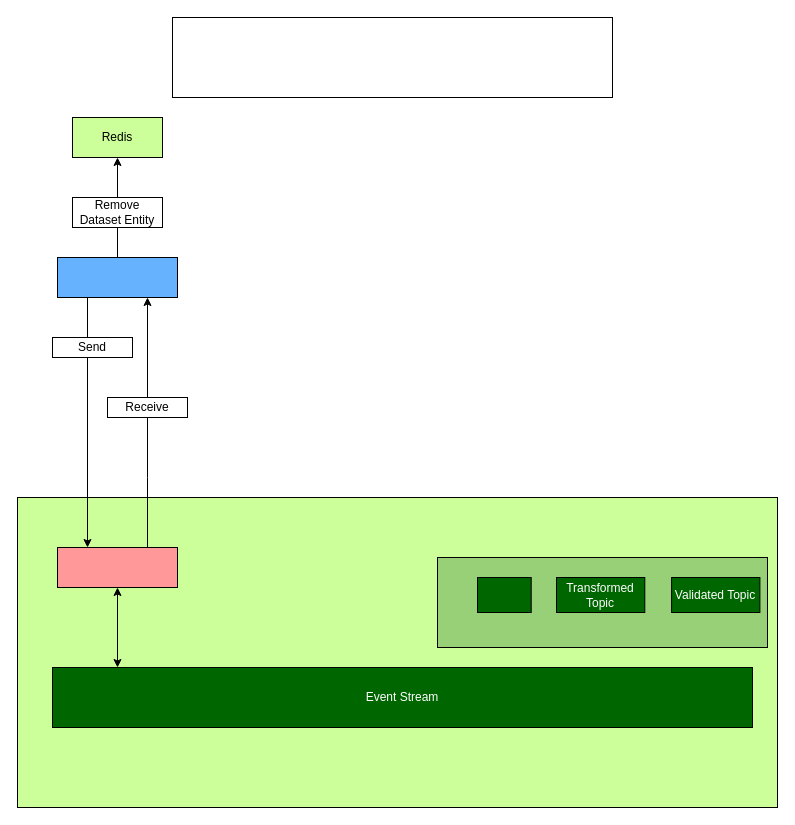
Some shapes in this 795 by 825 pixel diagram are drawn without their labels. Each missing label, with the centre of its shape:
Data Ingest End: (x=392, y=57)
Data_Ingest_End: (x=117, y=567)
Forklift: (x=117, y=277)
Raw Topic: (x=503, y=594)
